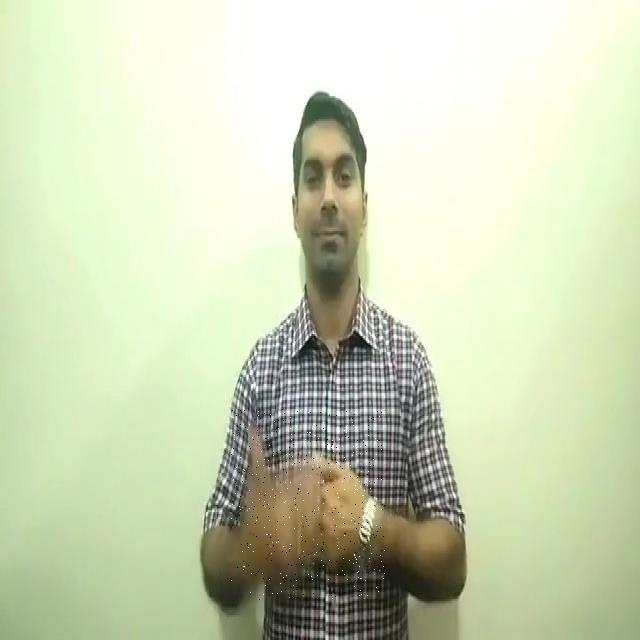bread: (230, 410, 386, 600)
